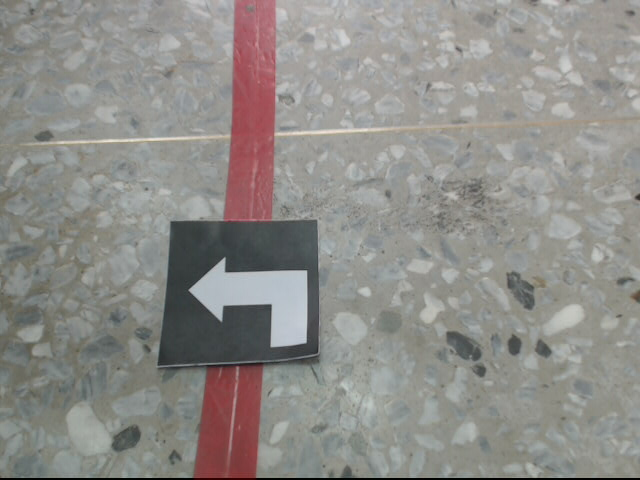left: (157, 217, 326, 368)
